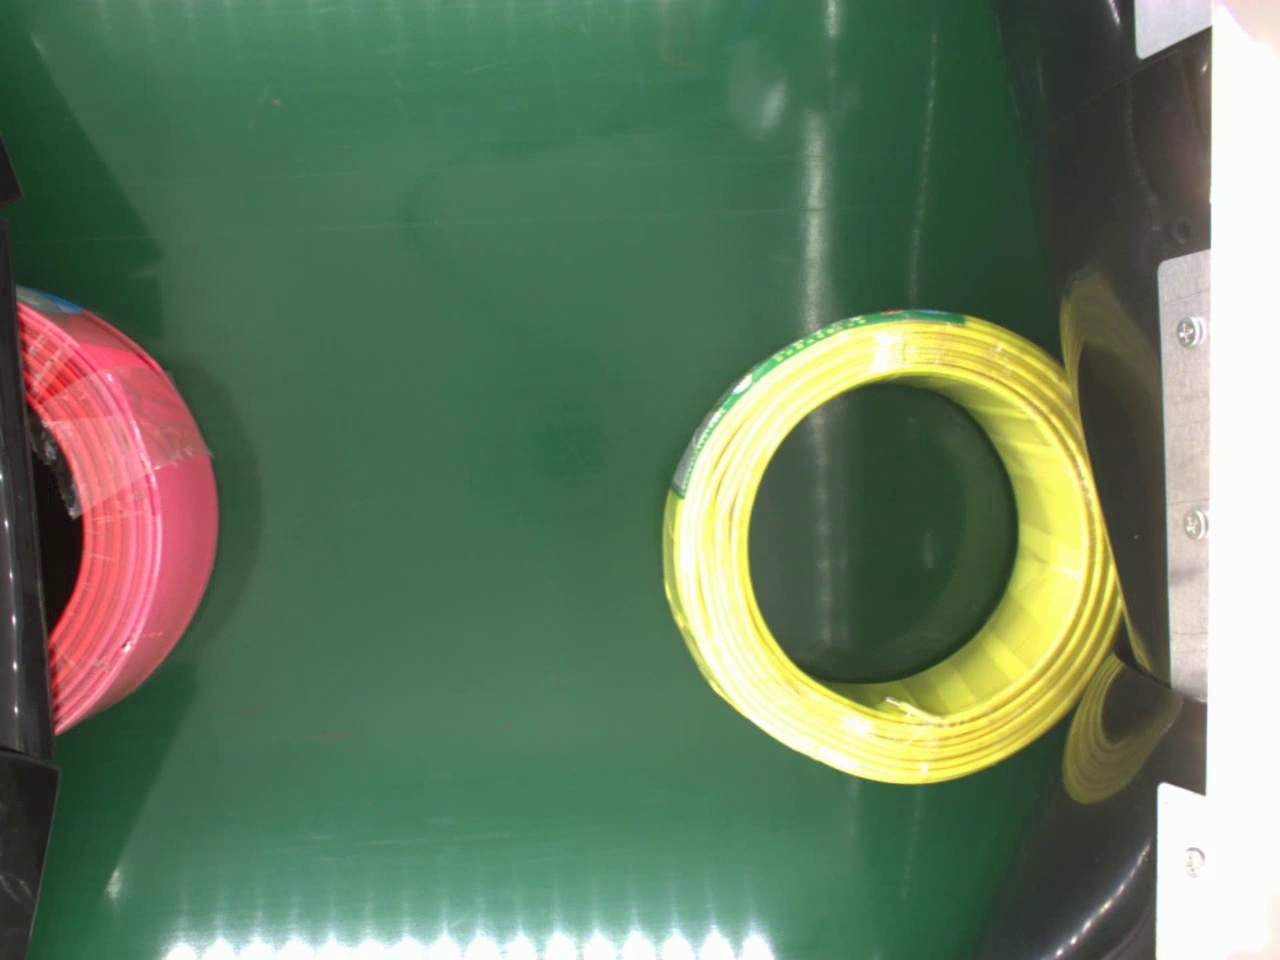red: (9, 281, 222, 731)
yellow: (655, 302, 1124, 793)
